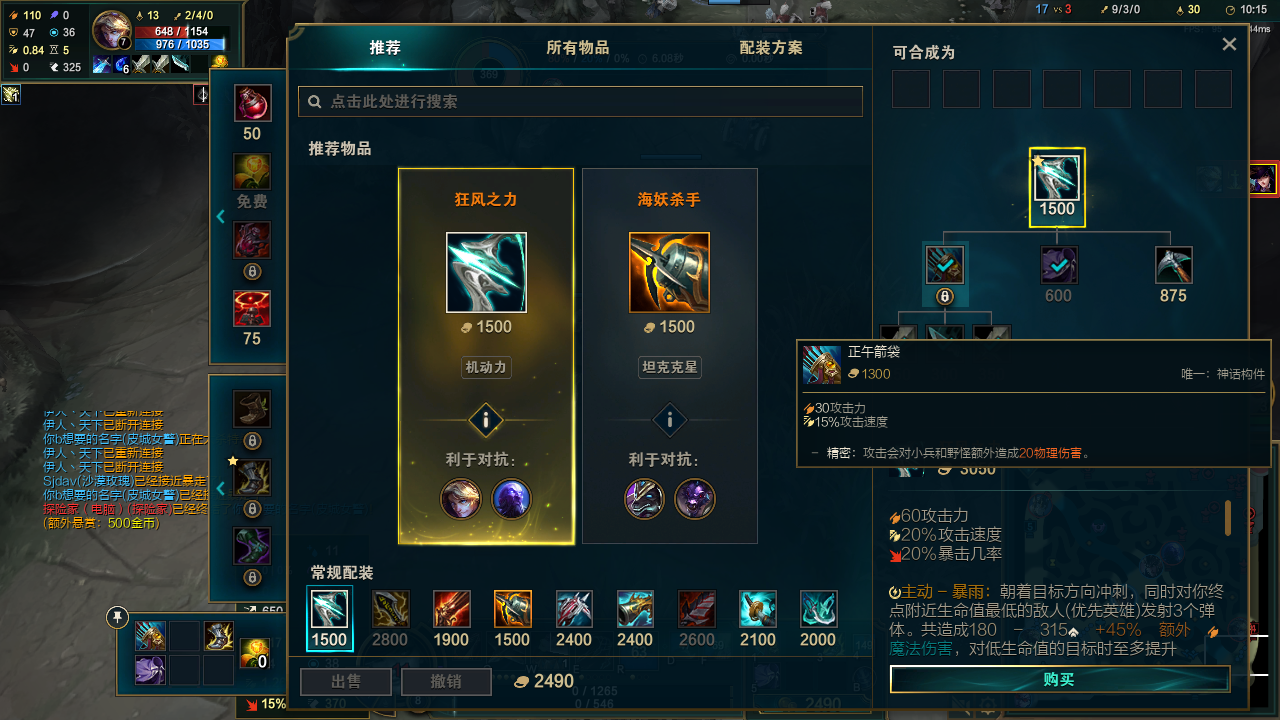GTH: (628, 394, 705, 439)
TJJM: (337, 46, 438, 74)
